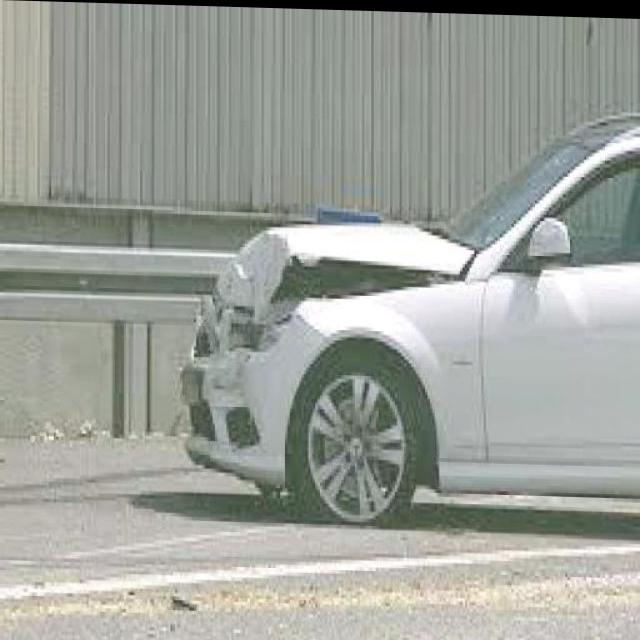Car-Damage: (184, 216, 464, 463)
